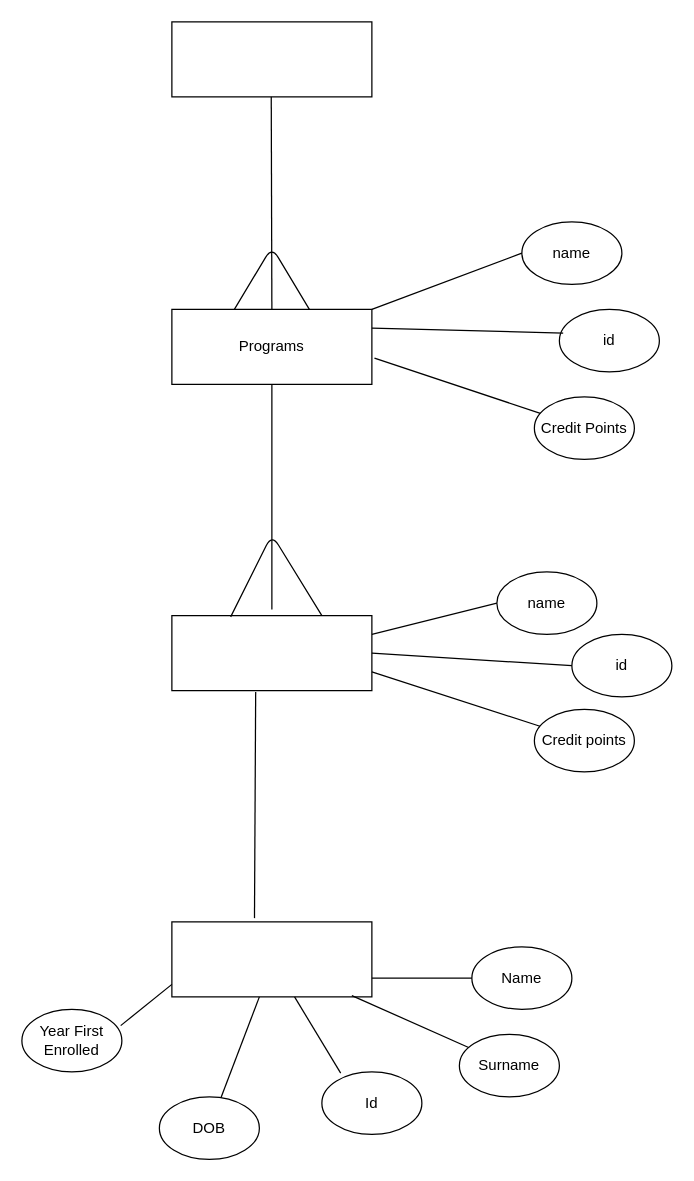
Some shapes in this 694 by 1181 pixel diagram are drawn without their labels. Here are the shapes that lost their labels. From the top down, the centre of each, then its label:
the point at 271,59: University
the point at 271,652: Courses
the point at 271,959: Student
